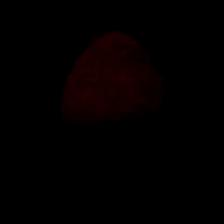fertile: (52, 18, 179, 194)
